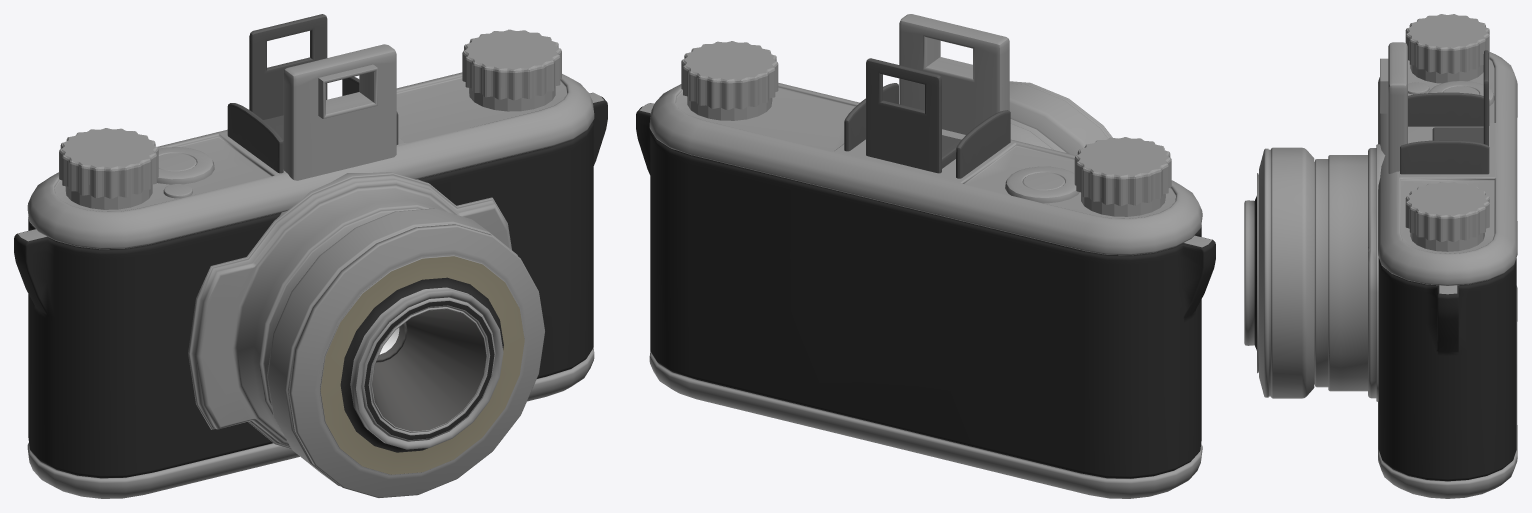
Rendered from AP_Camera01_HB.fbx.
3 views of the same model, side by side, from view 1: azimuth 30°, elevation 25°; view 2: azimuth 150°, elevation 25°; view 3: azimuth 270°, elevation 25° (orthographic). The views are drawn at different scales.
Visible parts, largest first — view 1: pCube6, pCylinder2, pCube7, pCylinder6, pCylinder5, pCube8, pCube9, pCylinder7; view 2: pCube6, pCube7, pCube8, pCylinder6, pCylinder5, pCylinder2, pCylinder7, pCube9, pCube10; view 3: pCube6, pCylinder2, pCylinder6, pCylinder5, pCube10, pCube7, pCube9, pCube8, pCylinder7.
Boxes of the visible parts, <box> form: pCube6: <box>14,72,607,498</box>; pCylinder2: <box>188,172,544,497</box>; pCube7: <box>283,44,396,180</box>; pCylinder6: <box>462,29,561,111</box>; pCylinder5: <box>59,128,158,209</box>; pCube8: <box>249,14,327,141</box>; pCube9: <box>227,103,283,173</box>; pCylinder7: <box>157,147,214,184</box>; pCube6: <box>636,83,1215,498</box>; pCube7: <box>899,14,1009,134</box>; pCube8: <box>866,58,961,173</box>; pCylinder6: <box>681,41,778,120</box>; pCylinder5: <box>1074,137,1171,216</box>; pCylinder2: <box>1009,81,1112,155</box>; pCylinder7: <box>1005,166,1079,203</box>; pCube9: <box>956,110,1010,178</box>; pCube10: <box>844,83,898,151</box>; pCube6: <box>1378,52,1517,498</box>; pCylinder2: <box>1244,144,1385,401</box>; pCylinder6: <box>1405,182,1489,251</box>; pCylinder5: <box>1405,14,1489,83</box>; pCube10: <box>1400,140,1489,174</box>; pCube7: <box>1380,42,1407,173</box>; pCube9: <box>1408,92,1489,126</box>; pCube8: <box>1432,50,1488,145</box>; pCylinder7: <box>1428,81,1494,105</box>.
Bounding box in the file's own units: 0.1119 × 0.0707 × 0.0529.
